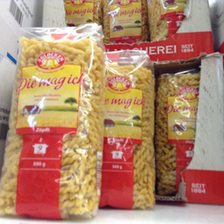pasta: (2, 26, 103, 217), (101, 48, 156, 210), (156, 66, 199, 196), (103, 1, 149, 40), (146, 1, 186, 39)
